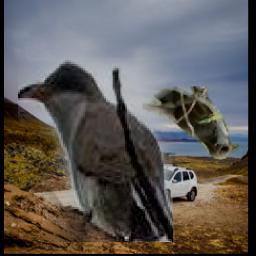Cuckoo: (18, 59, 173, 243), (143, 87, 240, 161)
